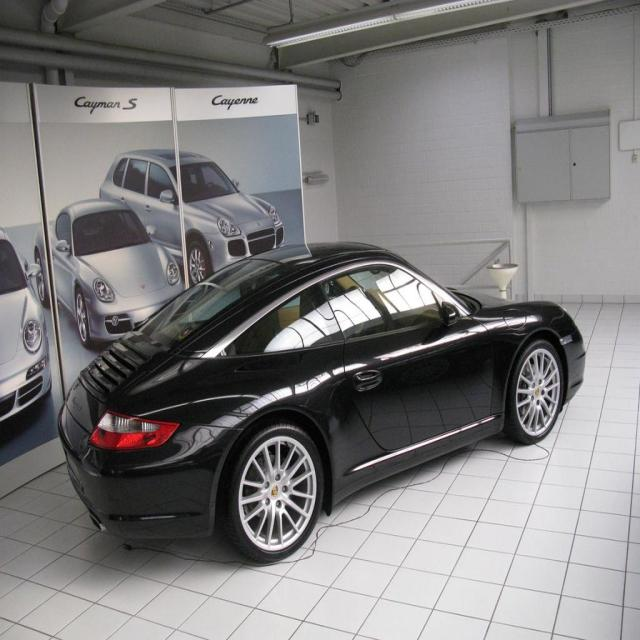car: (51, 238, 585, 568)
